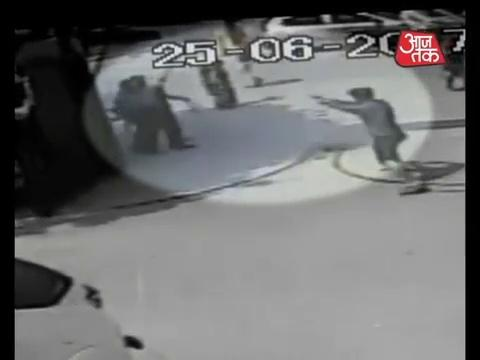weapon: (304, 90, 329, 108)
